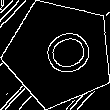O_SW: (26, 24, 92, 83)
